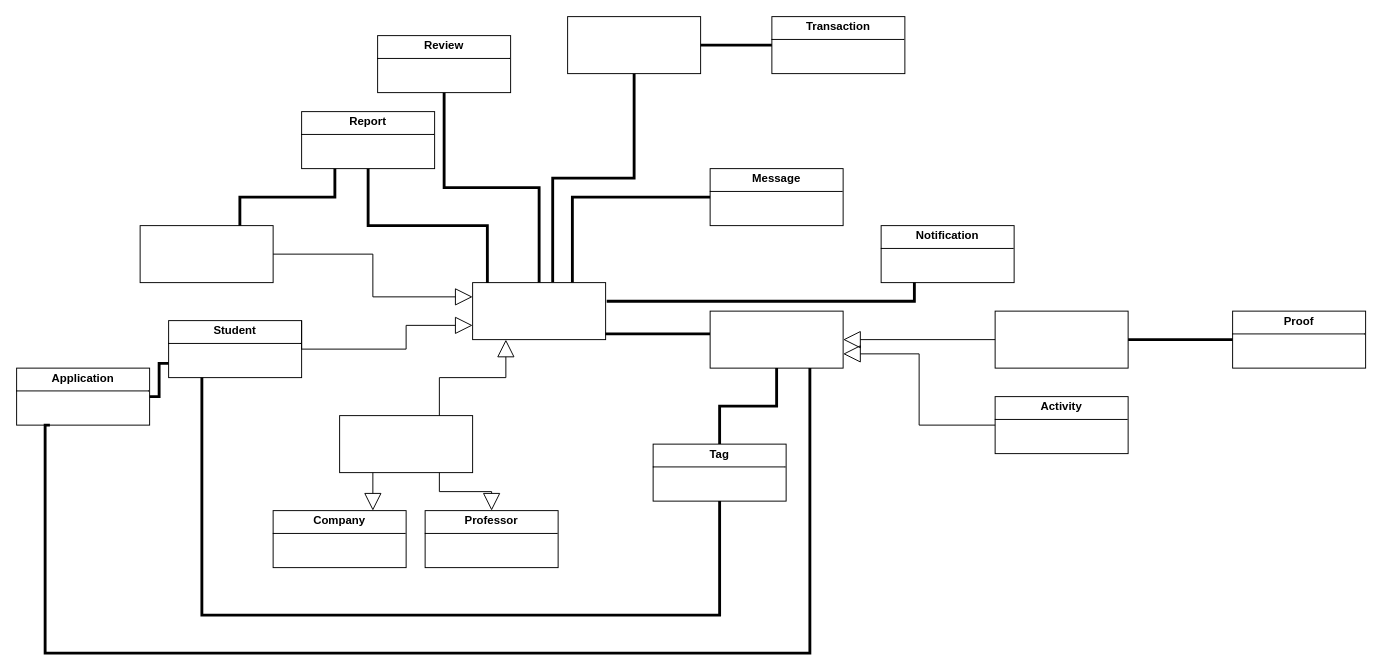
Some shapes in this 1382 by 672 pixel diagram are drawn without their labels. Each missing label, with the centre of its shape:
"Admin" belongs at point 206,254.
"Employer" belongs at point 406,444.
"Job" belongs at point 1061,339.
"Task" belongs at point 776,339.
"User" belongs at point 539,311.
"Wallet" belongs at point 634,45.
